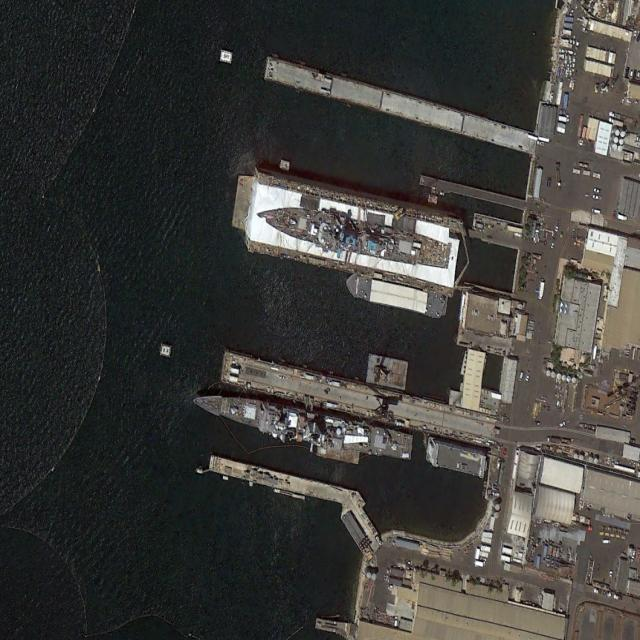Cruiser: (189, 385, 415, 466)
Destroyer: (253, 199, 452, 272)
Other Warship: (344, 272, 450, 320)
